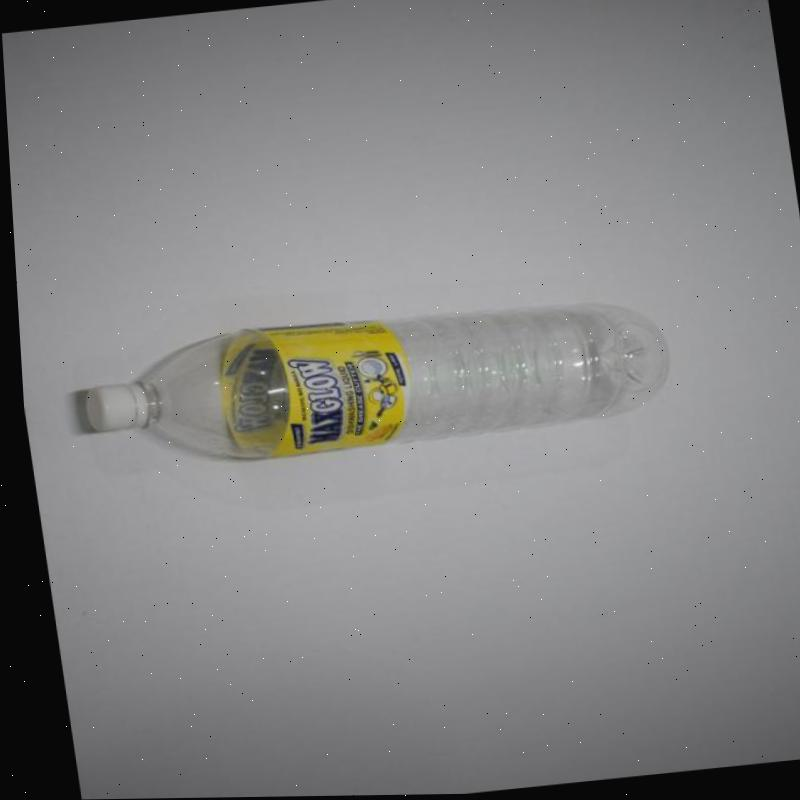botella: (65, 285, 673, 477)
